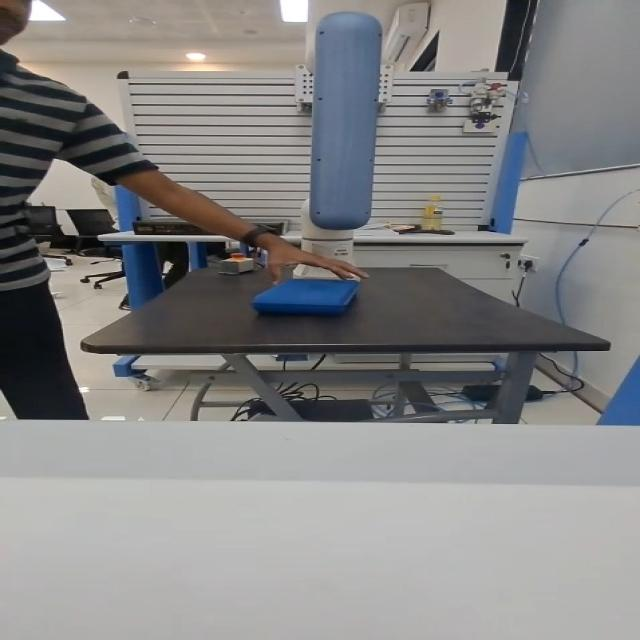top-surface: (275, 279, 344, 297)
